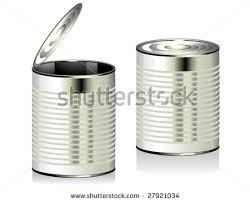Tin: (16, 5, 224, 188)
